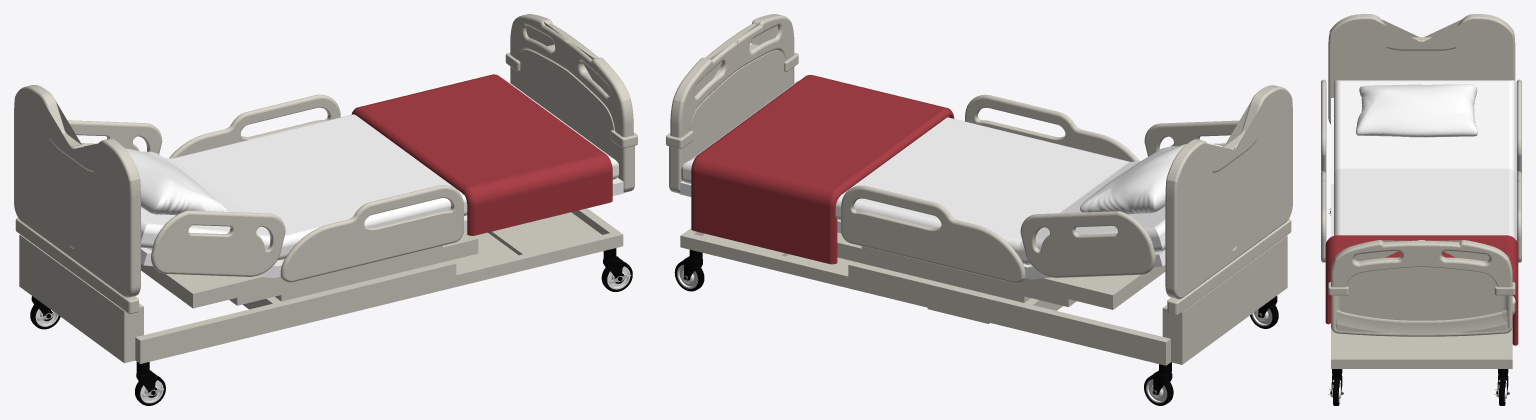
3 views of the same model, side by side, from view 1: azimuth 30°, elevation 25°; view 2: azimuth 150°, elevation 25°; view 3: azimuth 270°, elevation 25° (orthographic). The views are drawn at different scales.
Visible parts, largest first — view 1: 病床; view 2: 病床; view 3: 病床.
Boxes of the visible parts, left/top/right/bottom form: 病床: left=14, top=14, right=637, bottom=405; 病床: left=666, top=14, right=1292, bottom=405; 病床: left=1321, top=14, right=1521, bottom=405.
Bounding box in the file's own units: 231 × 110 × 99.69.
